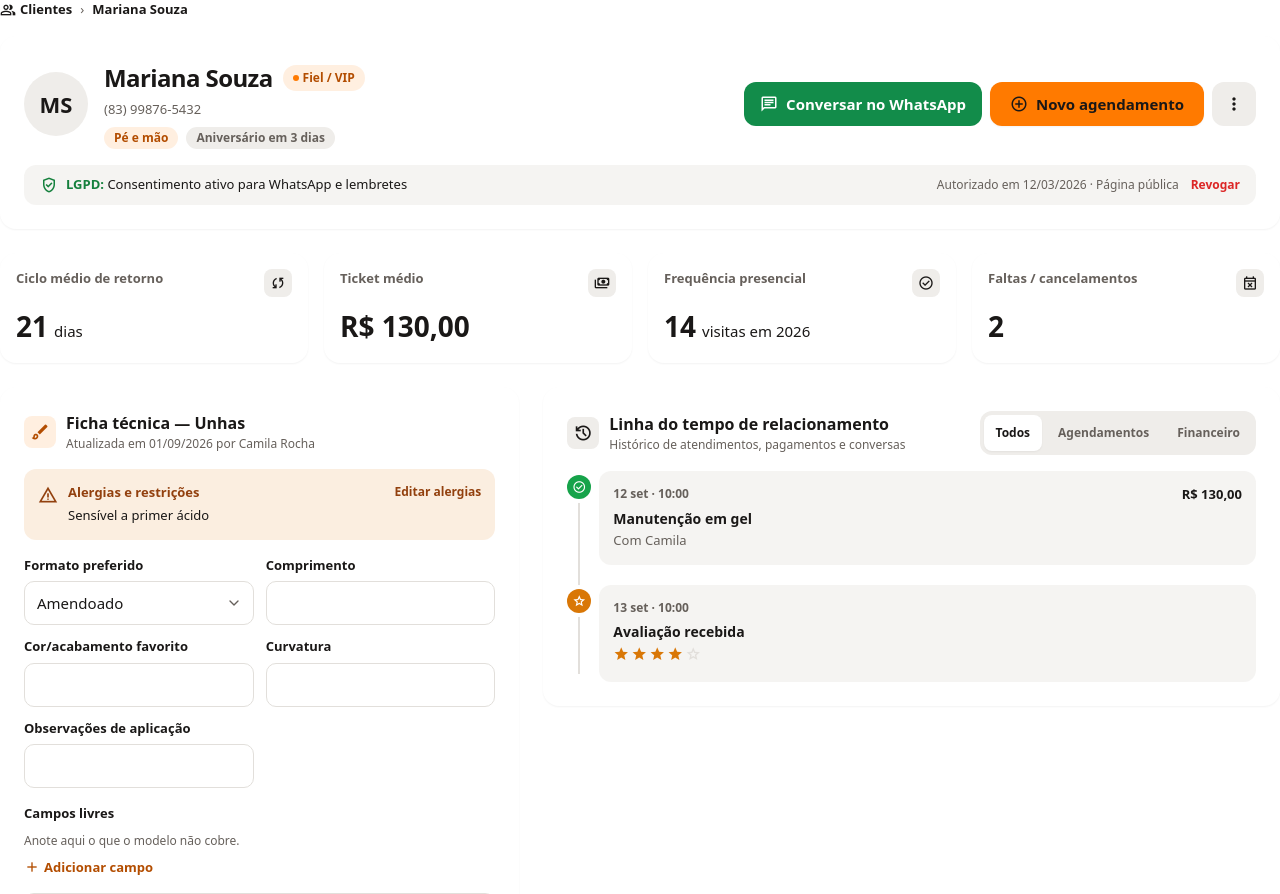
Test: FichaCliente › recarregar o perfil depois de salvar etiquetas não apaga a ficha em edição
Expected: the heading "Ficha técnica — Unhas" is shown, [66,412,245,434]
Step 1. Type "Tamanho 3" into the field labelled "Comprimento" → (381, 603), box [266,581,495,625]
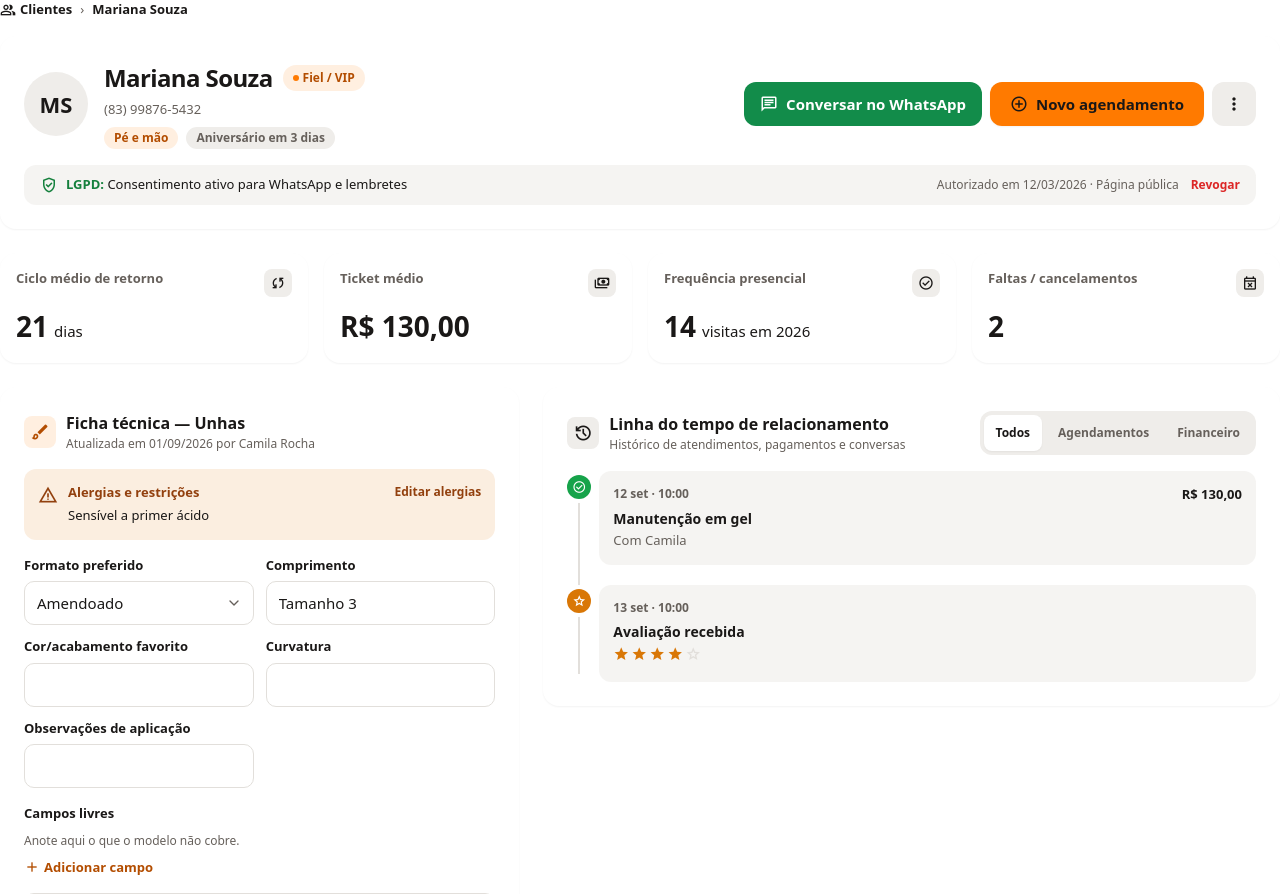
Step 2. Press the mouse on the button named "Mais opções da cliente" → (1234, 104), box [1212,82,1256,126]
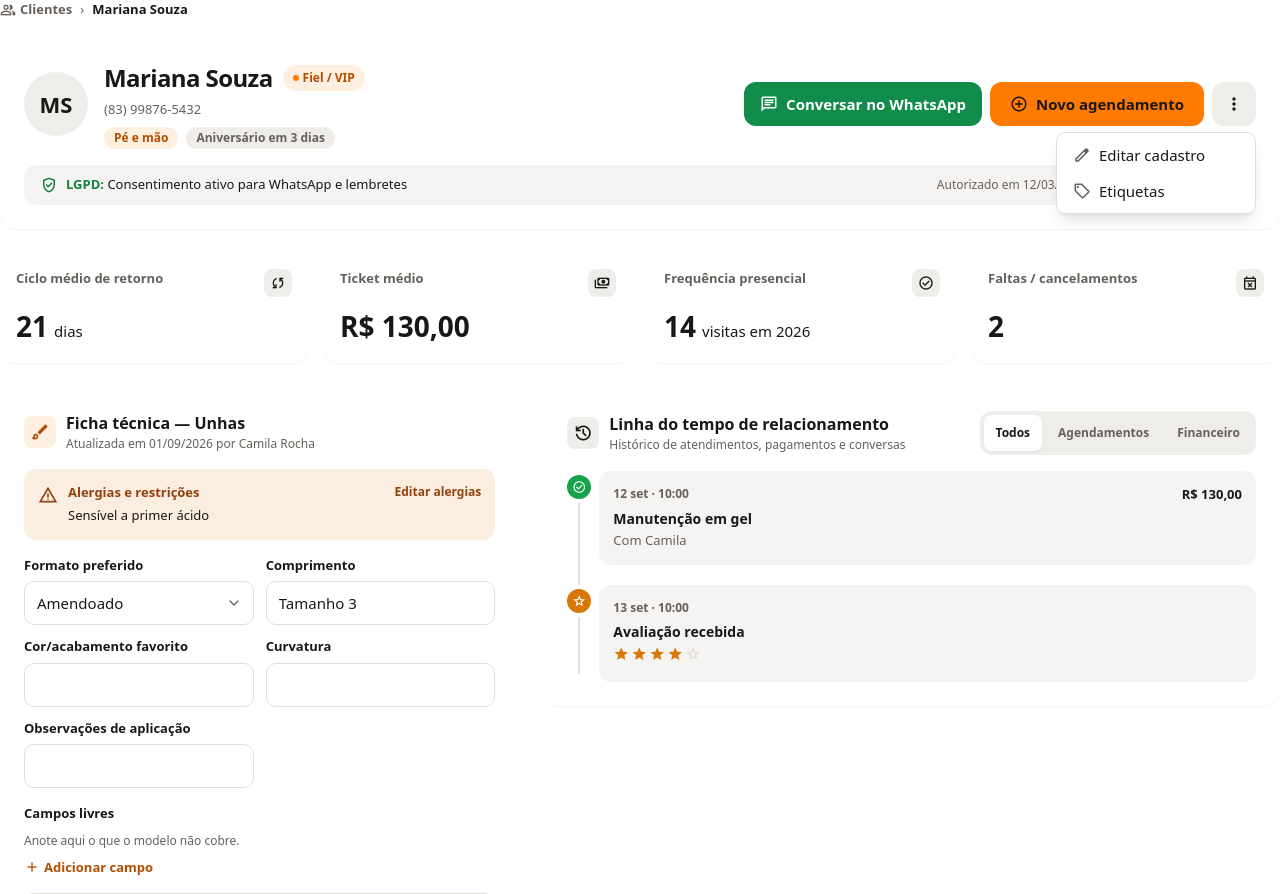
Step 3. Click the menu item "Etiquetas" → click(1119, 191), box [1073,180,1165,202]
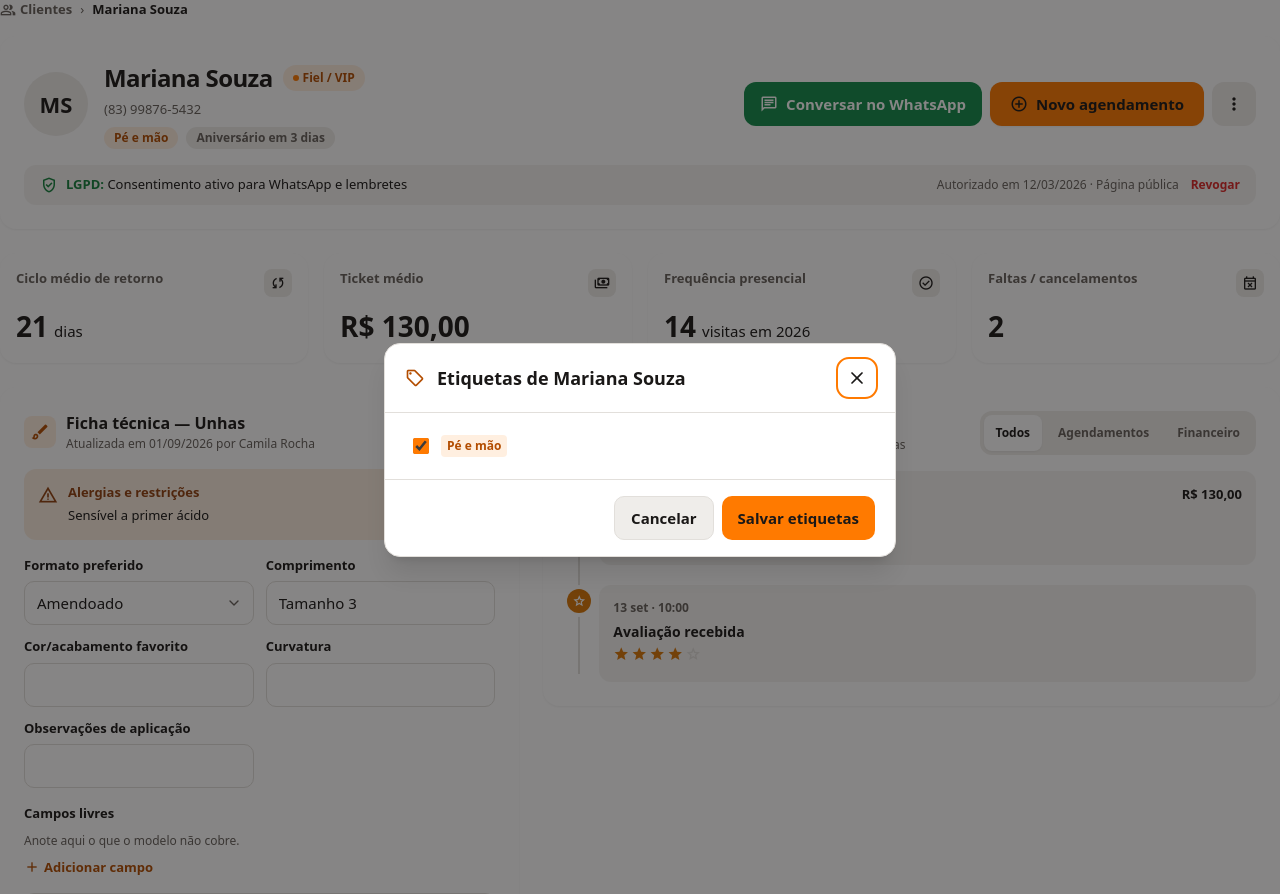
Step 4. Click the button "Salvar etiquetas" → click(798, 518), box [722,496,875,540]
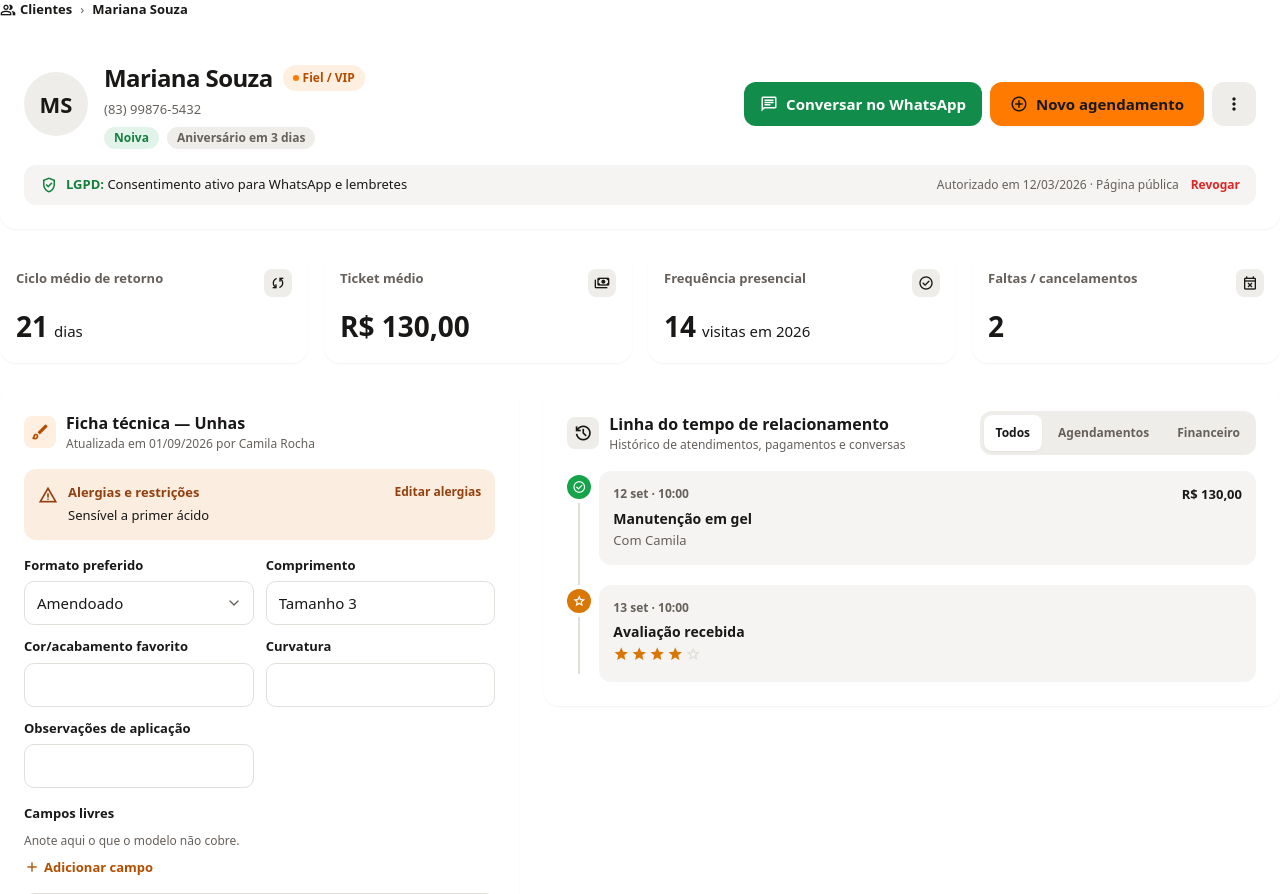
Expected: the text "Noiva" is shown, [104,127,159,149]
